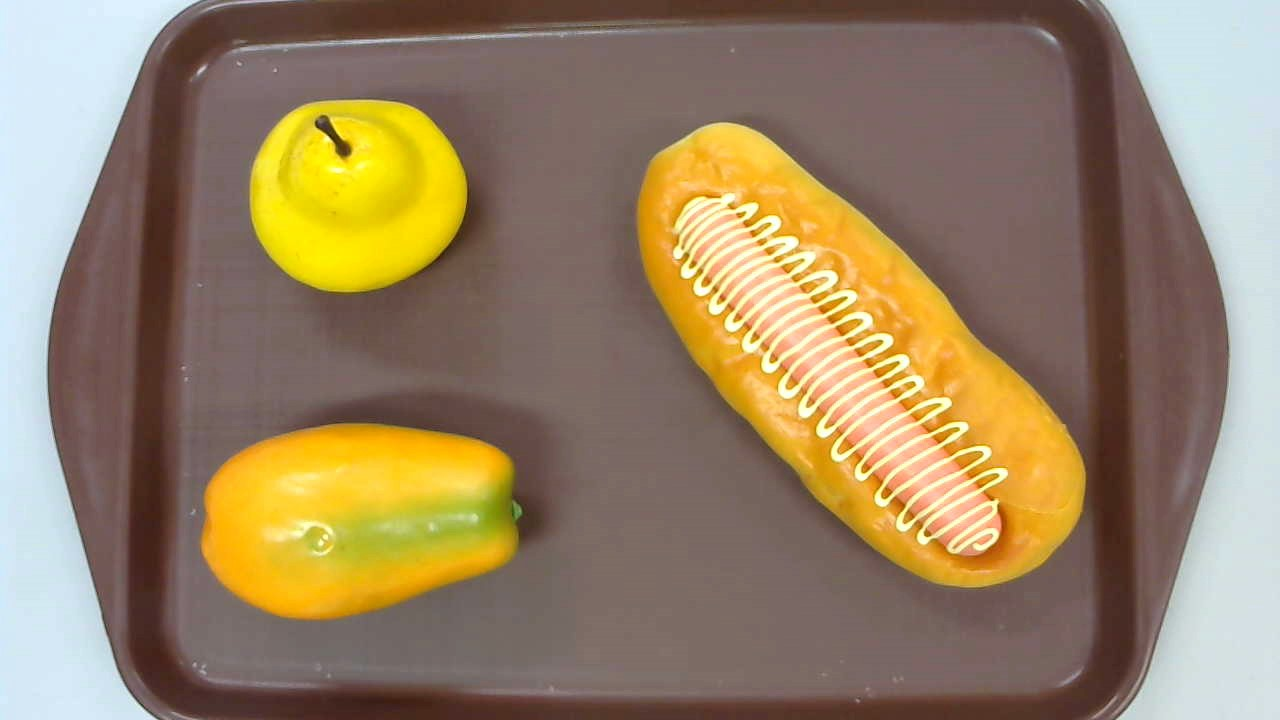hot dog: (633, 122, 1085, 589)
papya: (199, 422, 524, 623)
yellow pear: (249, 98, 466, 297)
